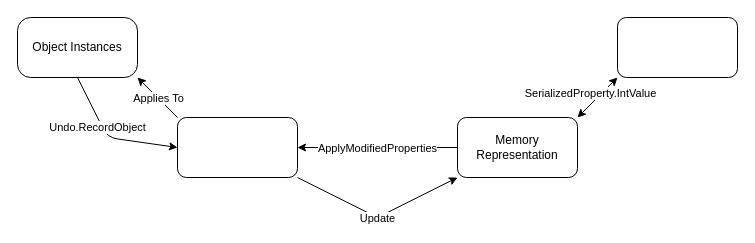
This 755x243 diagram has some shape labels left out. The shapes that lost their labels are listed below. From the top down, each one's centre as x and y in pixels, then its label:
At [677,47]: "Inspector".
At [237,147]: "Serialized State (On disk)".
